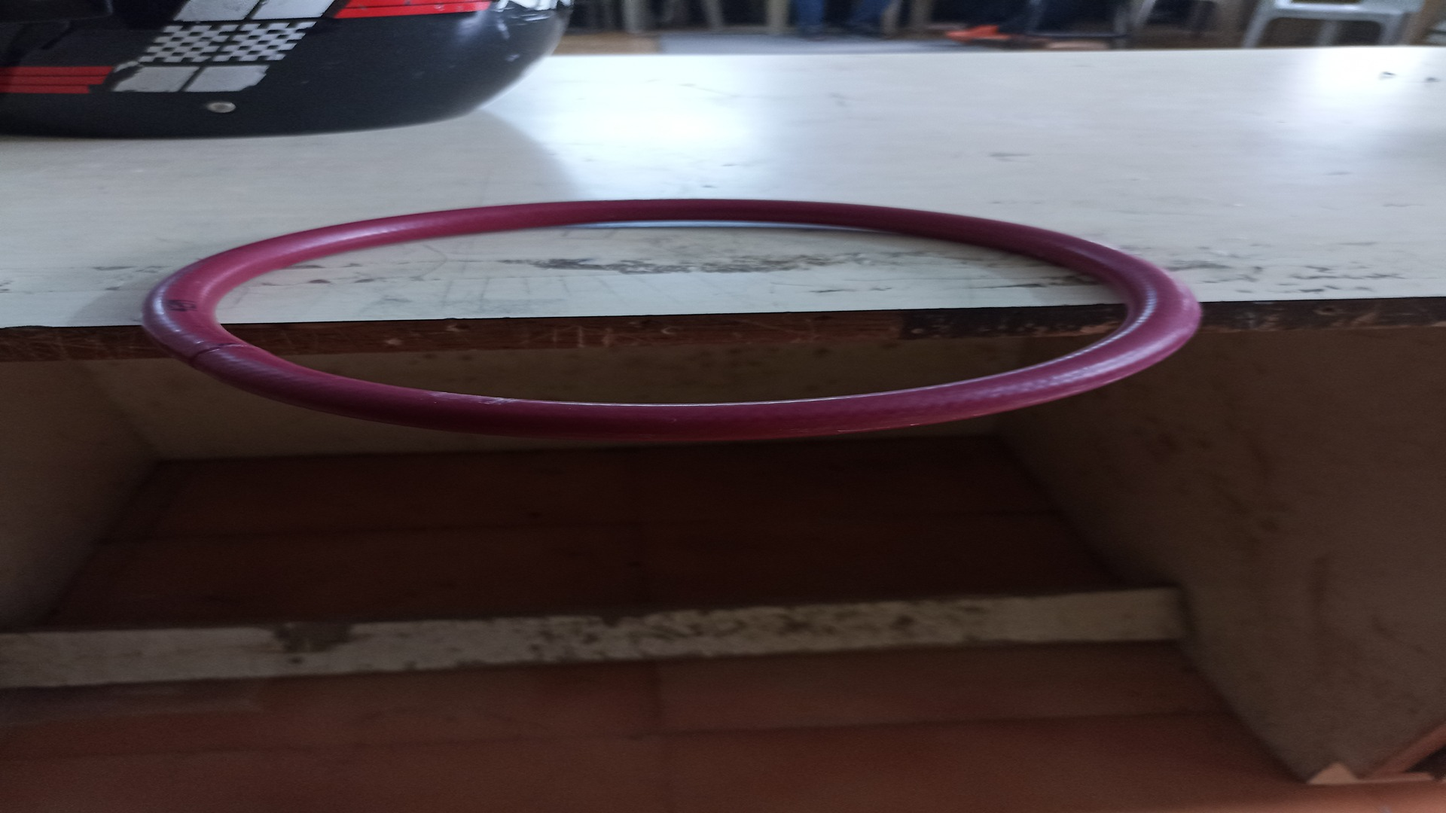Red ring: (137, 196, 1201, 440)
